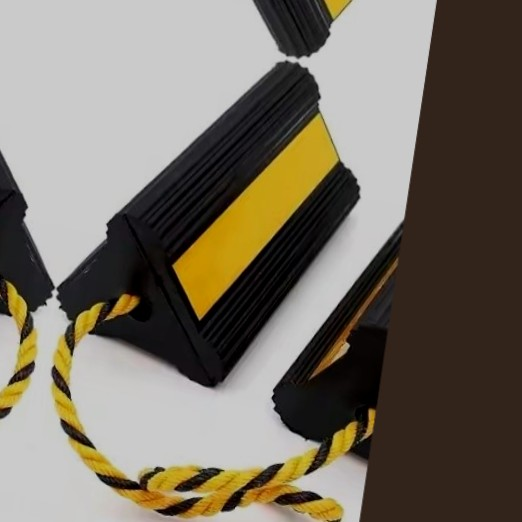chock: (44, 21, 387, 418), (255, 97, 522, 522), (0, 0, 100, 353)
